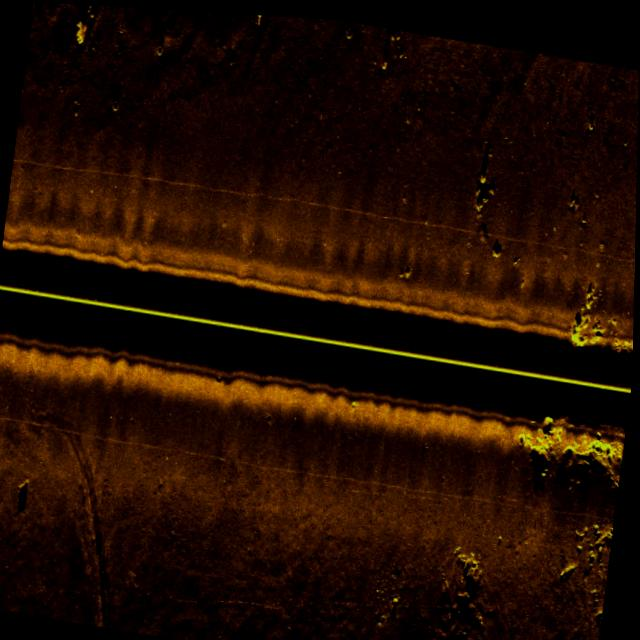mine: (531, 401, 561, 439), (13, 472, 34, 517)
